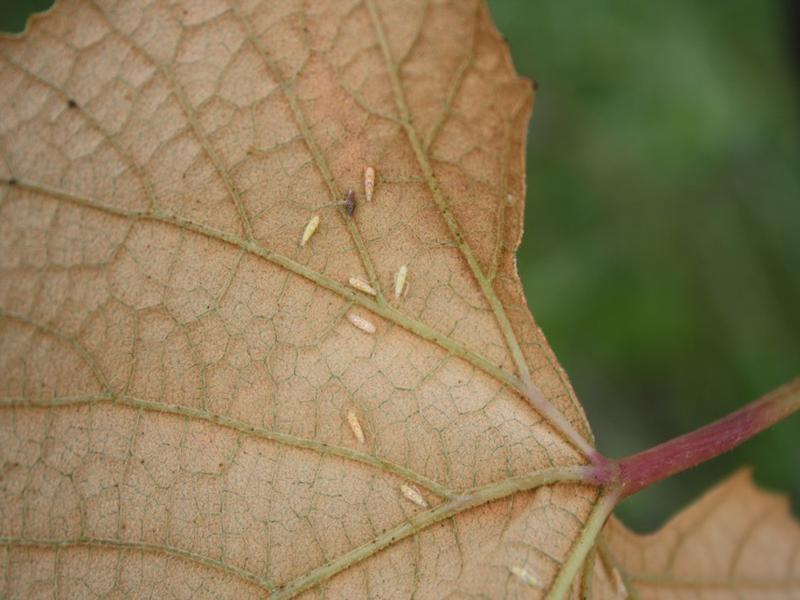Brown_plant_leafhopper: (255, 141, 458, 344), (323, 384, 443, 534)
